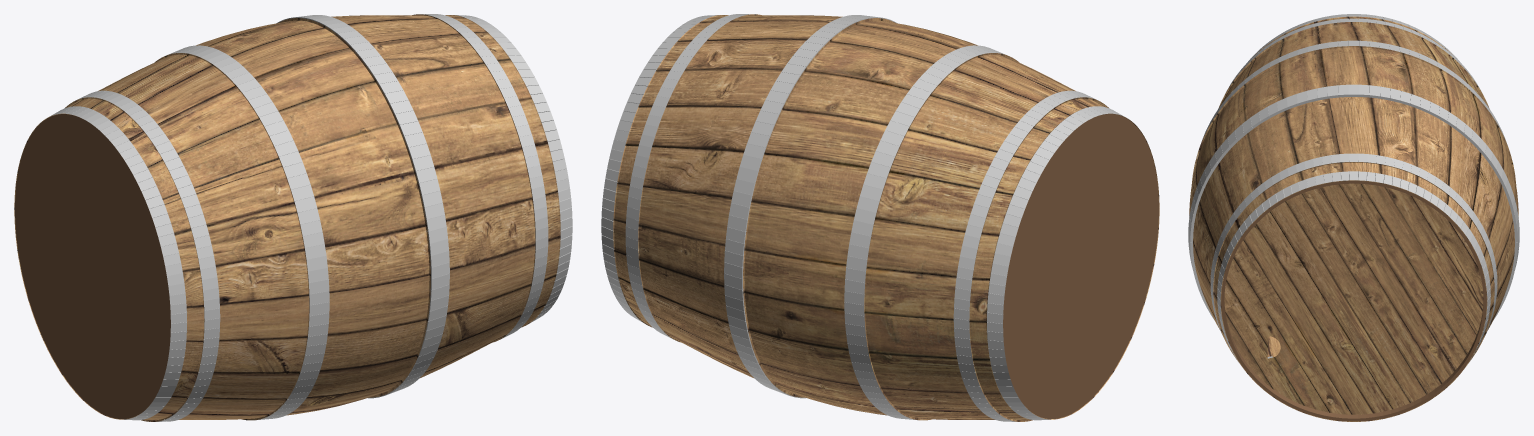
File: wooden_barrel.fbx
The picture shows the model from 3 angles, left to right: view 1: azimuth 30°, elevation 25°; view 2: azimuth 150°, elevation 25°; view 3: azimuth 270°, elevation 25°; orthographic projection. The views are drawn at different scales.
Parts seen in each view (by area): view 1: Cylinder_Cylinder.002; view 2: Cylinder_Cylinder.002; view 3: Cylinder_Cylinder.002.
Boxes of the visible parts, <box> form: Cylinder_Cylinder.002: <box>14,14,572,421</box>; Cylinder_Cylinder.002: <box>601,14,1159,421</box>; Cylinder_Cylinder.002: <box>1188,14,1519,421</box>.
Size of the model in its own units: 1216 by 1022 by 1022.
